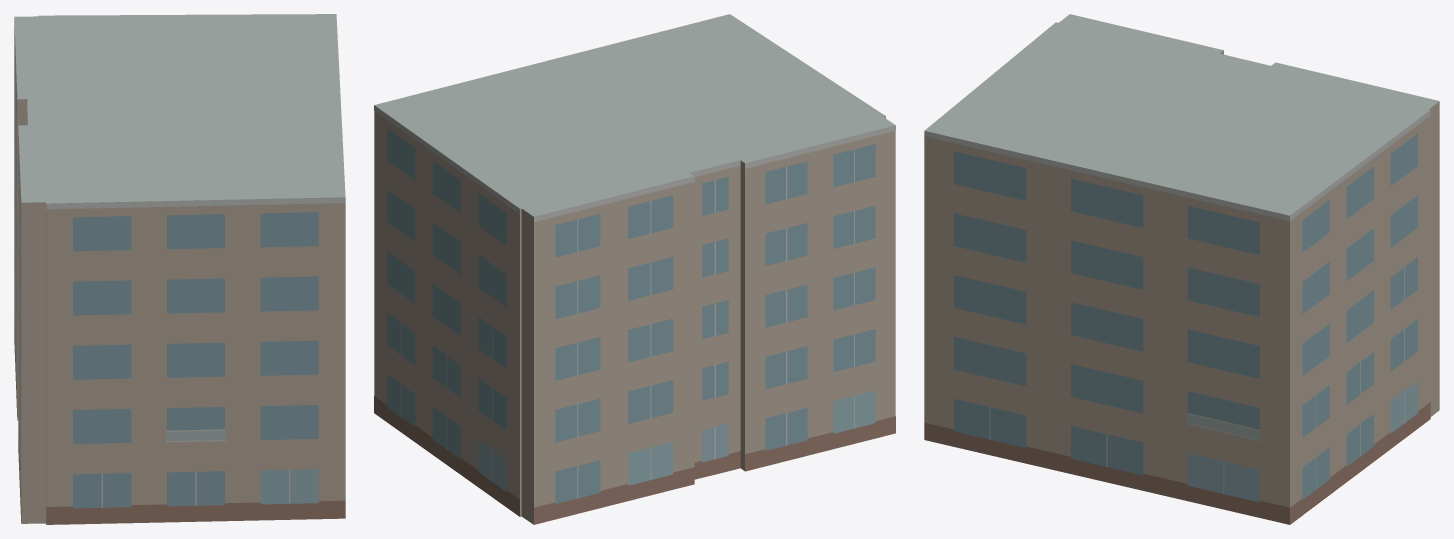
The model's file is survey-upis-32736744.glb.
3 renders of one model, left to right at view 1: azimuth 30°, elevation 25°; view 2: azimuth 150°, elevation 25°; view 3: azimuth 270°, elevation 25°, orthographic. The views are drawn at different scales.
Visible parts, largest first — view 1: survey-upis-32736744.tmp; view 2: survey-upis-32736744.tmp; view 3: survey-upis-32736744.tmp.
Part boxes in pixels (box(x1,y1,x2,y2)): survey-upis-32736744.tmp: box(14, 14, 345, 524); survey-upis-32736744.tmp: box(374, 14, 895, 524); survey-upis-32736744.tmp: box(924, 14, 1439, 524).
Size of the model in its own units: 19.04 by 13.6 by 20.56.
